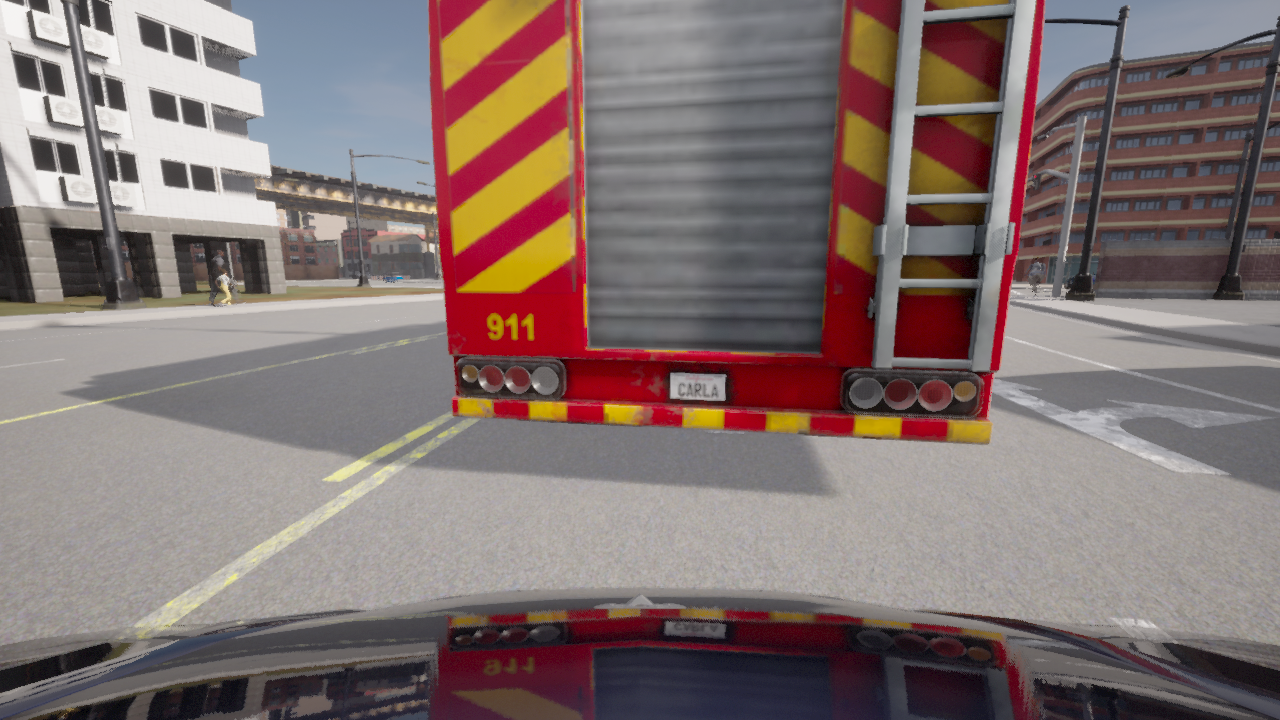cyclist: (427, 0, 1045, 444), (0, 588, 1279, 719), (1065, 273, 1095, 289), (383, 272, 404, 284), (356, 272, 380, 278), (382, 272, 387, 275)
pedestrian: (208, 249, 244, 306), (1024, 257, 1045, 295), (215, 269, 234, 307)
